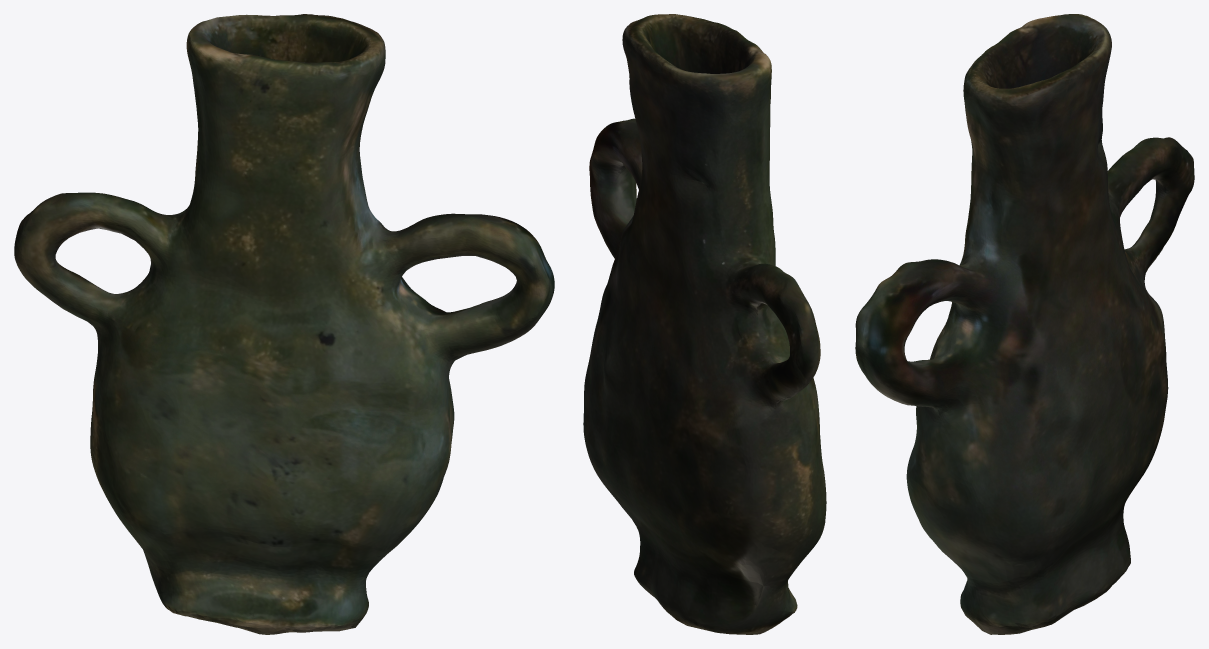
The model's file is green_vase.glb.
3 views of the same model, side by side, from view 1: azimuth 30°, elevation 25°; view 2: azimuth 150°, elevation 25°; view 3: azimuth 270°, elevation 25° (orthographic). The views are drawn at different scales.
Size of the model in its own units: 0.5502 by 0.8042 by 0.4352.
1 material, 1 textured.
